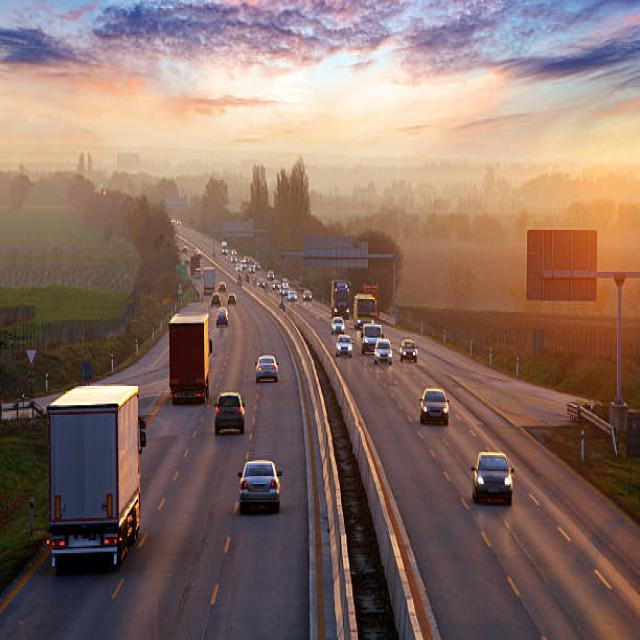Bus: (350, 290, 378, 319)
Car: (469, 450, 514, 505), (238, 458, 282, 513), (213, 391, 245, 434), (418, 386, 449, 424), (255, 353, 278, 382), (373, 338, 392, 363), (400, 338, 418, 362), (334, 334, 352, 357), (215, 305, 228, 325)
Truck: (46, 383, 146, 571), (168, 301, 212, 404)
